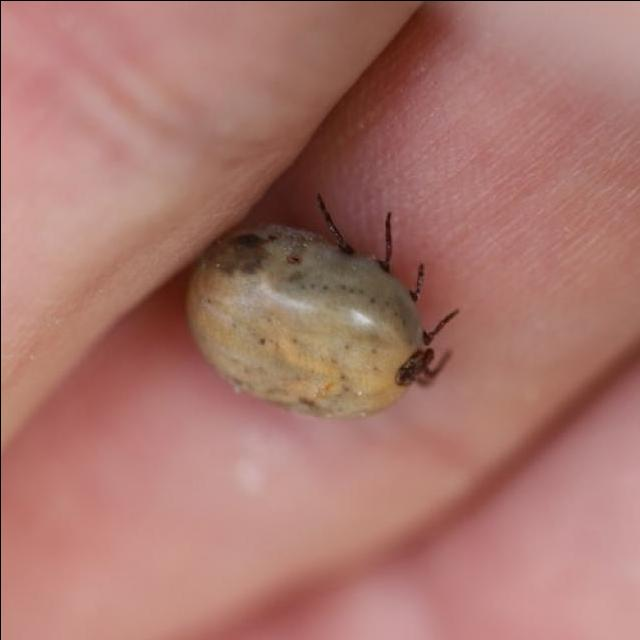Dermacentor Reticulatus-F-Fed: (186, 191, 461, 419)
